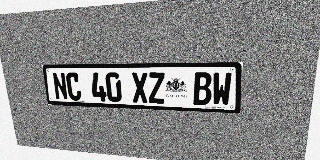0: (105, 72, 122, 102)
4: (90, 72, 107, 102)
B: (193, 72, 212, 105)
C: (65, 72, 82, 101)
N: (52, 72, 68, 100)
W: (212, 72, 232, 106)
X: (131, 72, 148, 103)
Z: (148, 72, 165, 104)
